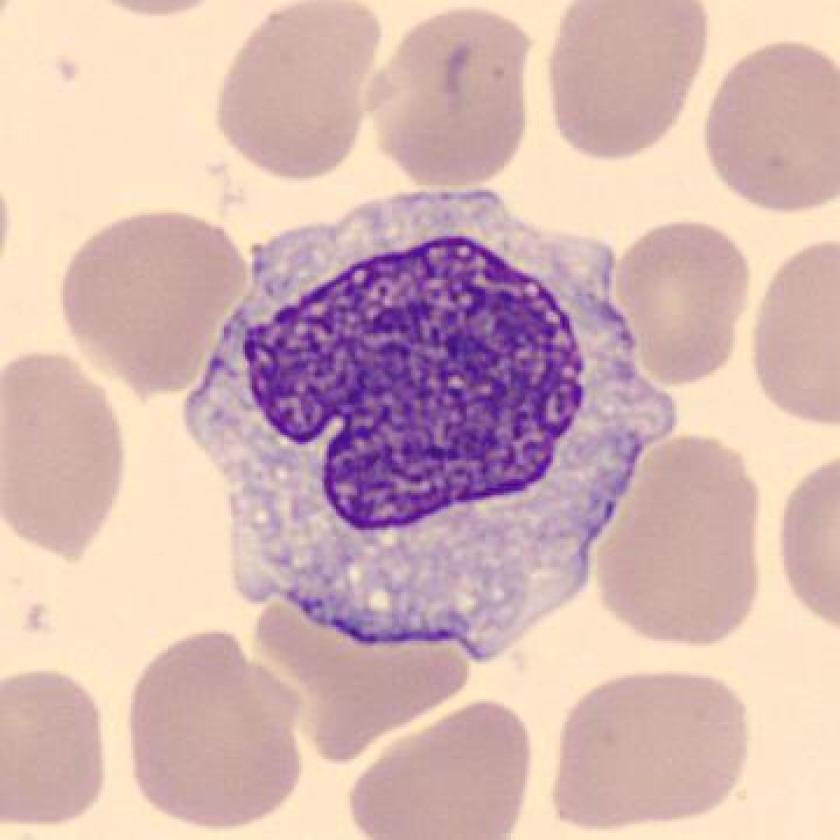monocyte: (169, 173, 689, 668)
